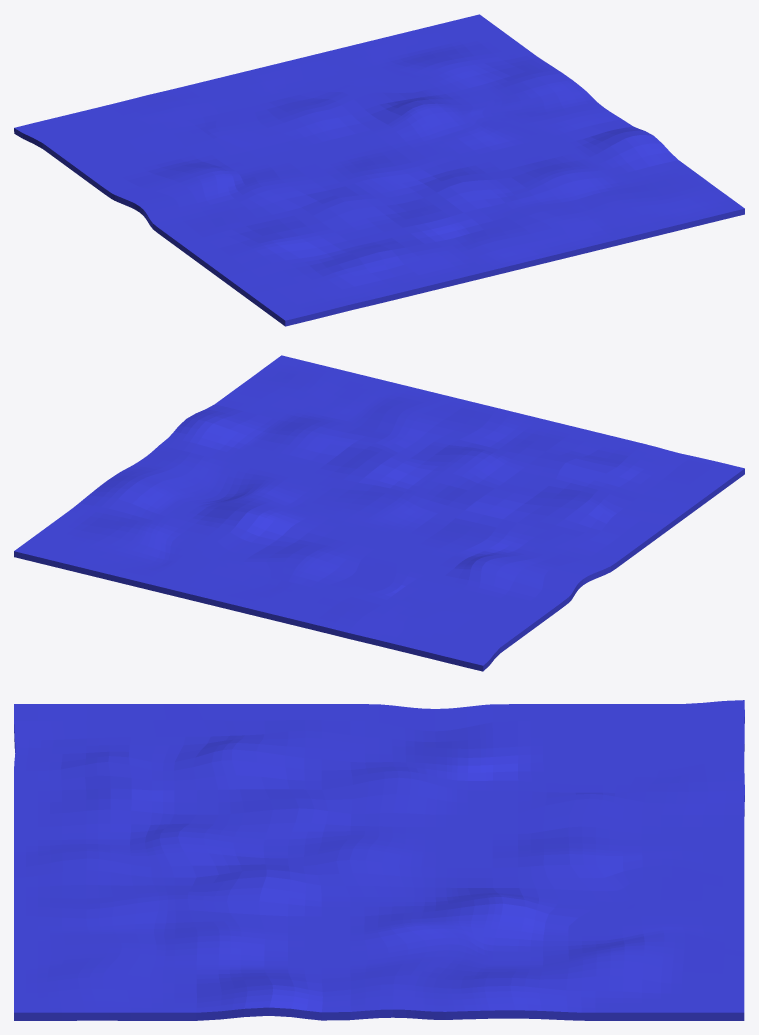
Rendered from ocean.gltf.
3 views of the same model, one above another, from view 1: azimuth 30°, elevation 25°; view 2: azimuth 150°, elevation 25°; view 3: azimuth 270°, elevation 25° (orthographic). The views are drawn at different scales.
Parts seen in each view (by area): view 1: Cube; view 2: Cube; view 3: Cube.
Boxes of the visible parts, bbox=[...] form: Cube: bbox=[14, 14, 744, 326]; Cube: bbox=[14, 355, 744, 671]; Cube: bbox=[14, 700, 744, 1020].
Size of the model in its own units: 1012 by 32.39 by 996.
